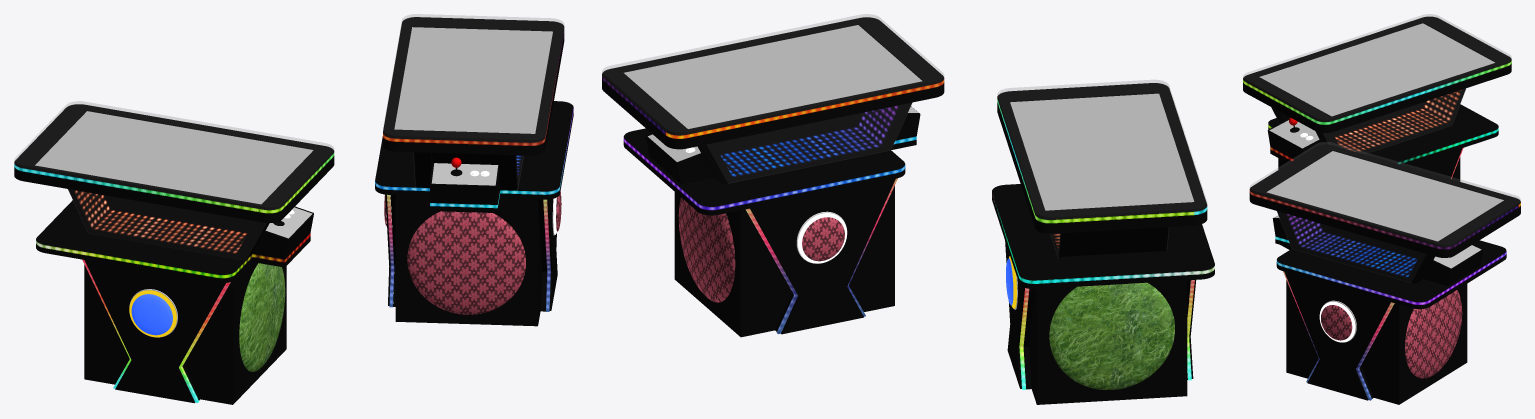
The picture shows the model from 3 angles, left to right: view 1: azimuth 30°, elevation 25°; view 2: azimuth 150°, elevation 25°; view 3: azimuth 270°, elevation 25°; orthographic projection. The views are drawn at different scales.
Parts seen in each view (by area): view 1: JustCabinet:BassBox (×2), JustCabinet:Mazegamescreen_JustCabinet:Maze_Cabinet_2b:Pacma, JustCabinet:Mazegamescreen, JustCabinet:pCylinder73 (×2), JustCabinet:CasinoKat1INLAY_JustCabinet:Maze_Cabinet_2b:BLAC (×2), JustCabinet:CasinoKatLegs6 (×2), CasinoKatundershelf, JustCabinet:CasinoKat10 (×2), JustCabinet:CasinoKatCab1_CasinoKatundershelf_JustCabinet:Ma (×2), JustCabinet:CasinoKat14, JustCabinet:CasinoKat13 (×2), JustCabinet:CasinoKatControlsBox2_JustCabinet:MazeControlBox (×2) (+12 smaller); view 2: JustCabinet:BassBox (×2), JustCabinet:Mazegamescreen, JustCabinet:pCylinder73 (×3), JustCabinet:Mazegamescreen_JustCabinet:Maze_Cabinet_2b:Pacma, JustCabinet:CasinoKat1INLAY_JustCabinet:Maze_Cabinet_2b:BLAC (×2), JustCabinet:CasinoKatLegs6, CasinoKatundershelf, JustCabinet:CasinoKatCab1_CasinoKatundershelf_JustCabinet:Ma (×2), JustCabinet:CasinoKat10 (×2), JustCabinet:CasinoKat14, JustCabinet:CasinoKat13 (×2), JustCabinet:CasinoKat_Glass_JustCabinet:Maze_Cabinet_2b:glas (×2) (+9 smaller); view 3: JustCabinet:Mazegamescreen_JustCabinet:Maze_Cabinet_2b:Pacma, JustCabinet:Mazegamescreen, JustCabinet:CasinoKat1INLAY_JustCabinet:Maze_Cabinet_2b:BLAC (×2), JustCabinet:CasinoKatLegs (×2), JustCabinet:BassBox, JustCabinet:CasinoKat9 (×2), JustCabinet:CasinoKat10 (×2), JustCabinet:CasinoKatCab1_CasinoKatundershelf_JustCabinet:Ma (×2), JustCabinet:pCylinder73 (×2), CasinoKatundershelf, JustCabinet:CasinoKat_Glass_JustCabinet:Maze_Cabinet_2b:glas (×2), JustCabinet:CasinoKat12 (×2) (+12 smaller).
Part boxes in pixels (x1,y1,x2,y2): JustCabinet:BassBox (×2): [84, 195, 541, 404]; JustCabinet:Mazegamescreen_JustCabinet:Maze_Cabinet_2b:Pacma: [394, 27, 552, 133]; JustCabinet:Mazegamescreen: [35, 111, 313, 204]; JustCabinet:pCylinder73 (×2): [239, 211, 525, 371]; JustCabinet:CasinoKat1INLAY_JustCabinet:Maze_Cabinet_2b:BLAC (×2): [14, 17, 564, 210]; JustCabinet:CasinoKatLegs6 (×2): [84, 194, 395, 403]; CasinoKatundershelf: [36, 200, 310, 283]; JustCabinet:CasinoKat10 (×2): [14, 33, 564, 222]; JustCabinet:CasinoKatCab1_CasinoKatundershelf_JustCabinet:Ma (×2): [375, 101, 573, 212]; JustCabinet:CasinoKat14: [73, 190, 247, 253]; JustCabinet:CasinoKat13 (×2): [68, 152, 466, 260]; JustCabinet:CasinoKatControlsBox2_JustCabinet:MazeControlBox (×2): [252, 172, 500, 259]; JustCabinet:BassBox (×2): [674, 186, 1187, 404]; JustCabinet:Mazegamescreen: [1010, 93, 1194, 210]; JustCabinet:pCylinder73 (×3): [678, 197, 1174, 389]; JustCabinet:Mazegamescreen_JustCabinet:Maze_Cabinet_2b:Pacma: [624, 25, 922, 128]; JustCabinet:CasinoKat1INLAY_JustCabinet:Maze_Cabinet_2b:BLAC (×2): [602, 17, 1207, 219]; JustCabinet:CasinoKatLegs6: [750, 178, 895, 334]; CasinoKatundershelf: [992, 184, 1214, 288]; JustCabinet:CasinoKatCab1_CasinoKatundershelf_JustCabinet:Ma (×2): [623, 128, 916, 215]; JustCabinet:CasinoKat10 (×2): [602, 79, 1207, 233]; JustCabinet:CasinoKat14: [720, 105, 899, 177]; JustCabinet:CasinoKat13 (×2): [804, 102, 1168, 256]; JustCabinet:CasinoKat_Glass_JustCabinet:Maze_Cabinet_2b:glas (×2): [602, 14, 1206, 203]; JustCabinet:Mazegamescreen_JustCabinet:Maze_Cabinet_2b:Pacma: [1266, 151, 1503, 241]; JustCabinet:Mazegamescreen: [1259, 23, 1494, 116]; JustCabinet:CasinoKat1INLAY_JustCabinet:Maze_Cabinet_2b:BLAC (×2): [1243, 16, 1520, 246]; JustCabinet:CasinoKatLegs (×2): [1284, 148, 1462, 400]; JustCabinet:BassBox: [1286, 280, 1467, 404]; JustCabinet:CasinoKat9 (×2): [1286, 89, 1461, 277]; JustCabinet:CasinoKat10 (×2): [1243, 64, 1520, 257]; JustCabinet:CasinoKatCab1_CasinoKatundershelf_JustCabinet:Ma (×2): [1275, 239, 1506, 309]; JustCabinet:pCylinder73 (×2): [1321, 290, 1462, 378]; CasinoKatundershelf: [1268, 104, 1498, 166]; JustCabinet:CasinoKat_Glass_JustCabinet:Maze_Cabinet_2b:glas (×2): [1243, 14, 1520, 201]; JustCabinet:CasinoKat12 (×2): [1277, 88, 1465, 266].
Size of what is drawn, in the model's own units: 244 by 87.51 by 124.
